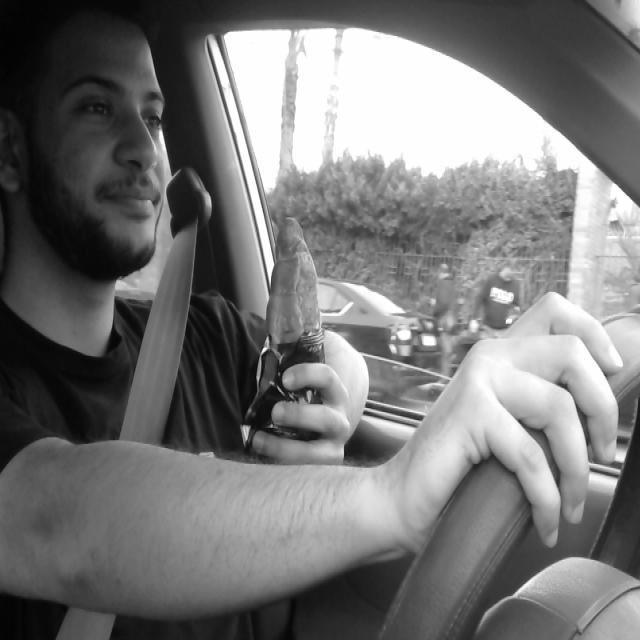eating: (254, 217, 324, 518)
